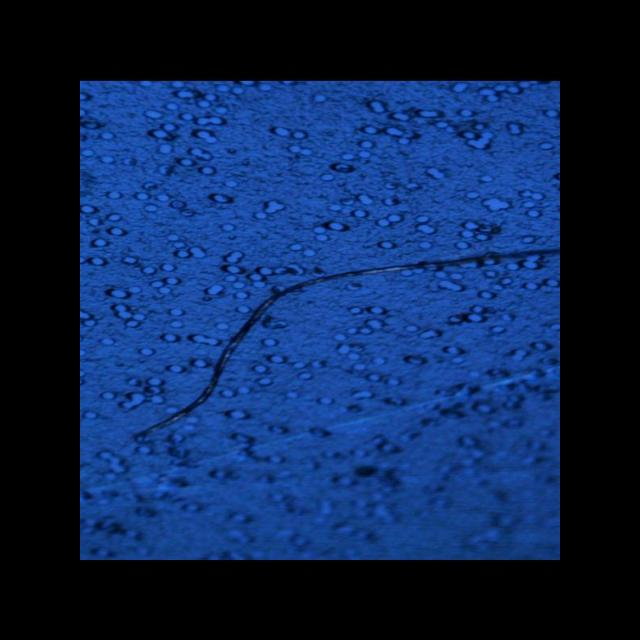Fibre: (125, 238, 560, 444)
